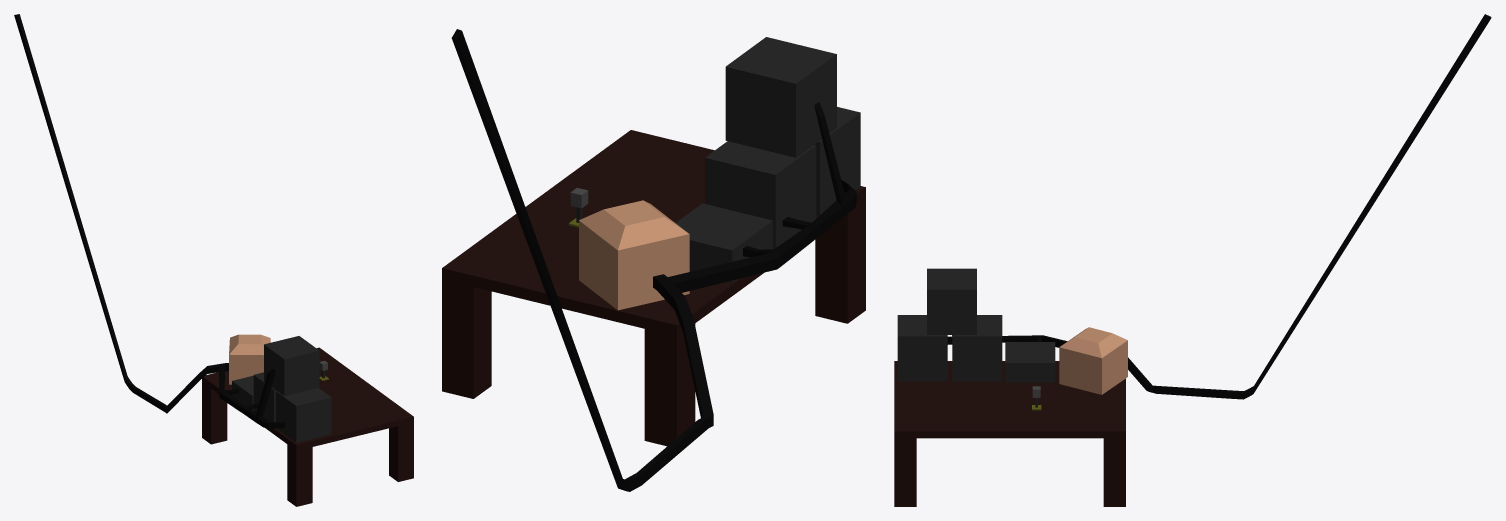
The model's file is RadioSttion.fbx.
3 views of the same model, side by side, from view 1: azimuth 30°, elevation 25°; view 2: azimuth 150°, elevation 25°; view 3: azimuth 270°, elevation 25° (orthographic). The views are drawn at different scales.
Visible parts, largest first — view 1: Radios, Mesa; view 2: Radios, Mesa; view 3: Radios, Mesa.
Part boxes in pixels (box(x1,y1,x2,y2)): Radios: box(14, 14, 331, 442); Mesa: box(202, 347, 413, 506); Radios: box(451, 29, 860, 491); Mesa: box(442, 130, 865, 446); Radios: box(897, 14, 1491, 410); Mesa: box(894, 361, 1125, 506).
Bounding box in the file's own units: 885 × 1763 × 2388.
